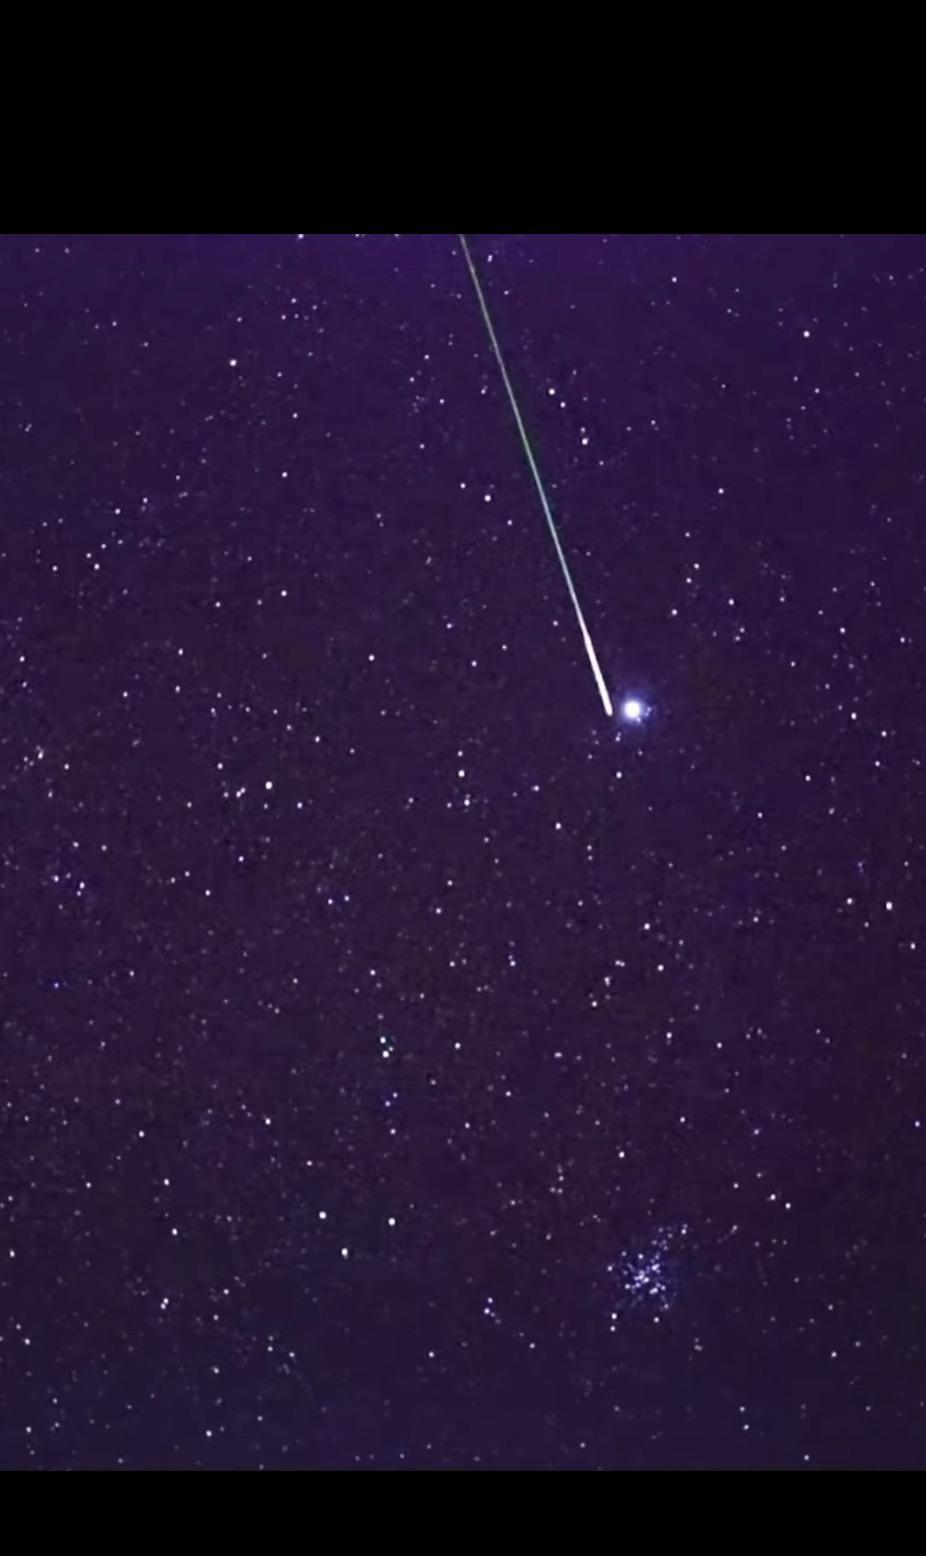meteorite: (485, 259, 617, 756)
